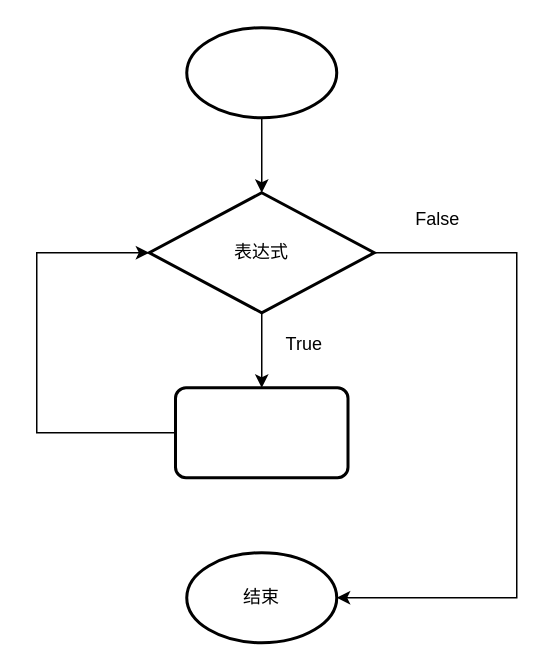
The diagram is 555 pixels wide and 669 high, and some of its shapes have lost their labels. The shapes that lost their labels are listed below. From the top down, each one's box as (x1, y1, x2, y2) in pixels, then its label:
(184, 26, 338, 118): 开始
(173, 386, 349, 478): 语句块
